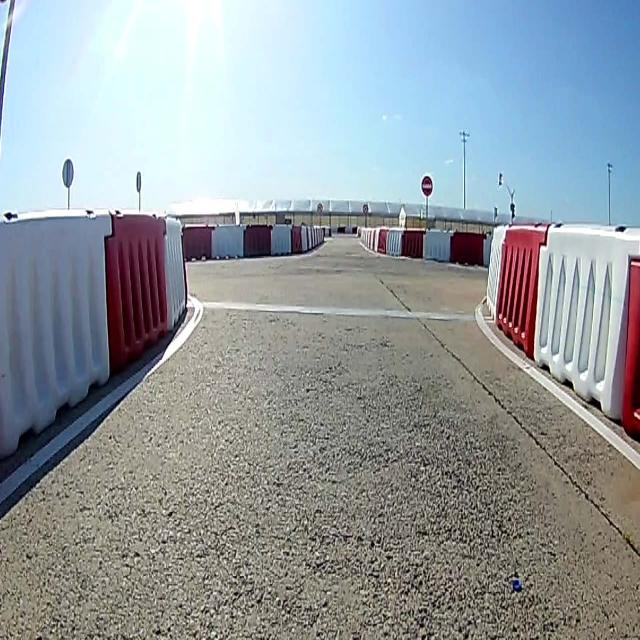girisyok: (421, 174, 434, 198)
